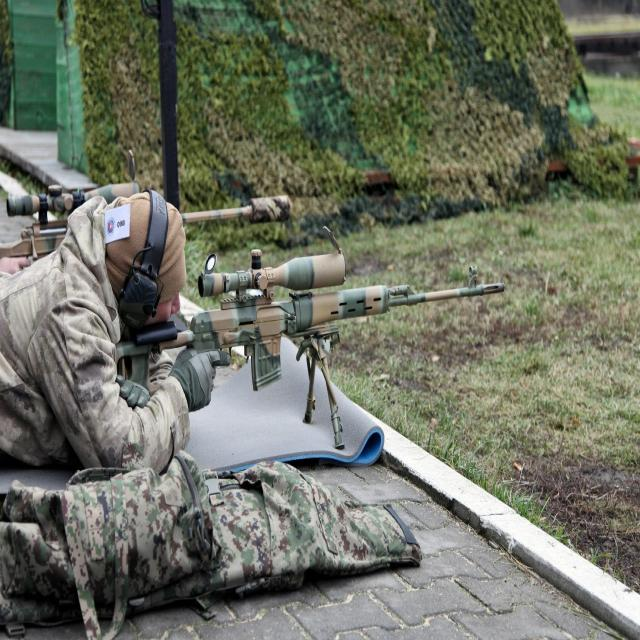firearm: (116, 222, 507, 449), (0, 183, 291, 262)
